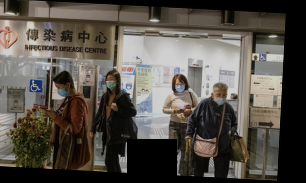with_mask: (213, 89, 226, 106), (103, 74, 117, 89), (53, 83, 66, 97), (173, 79, 185, 92)
